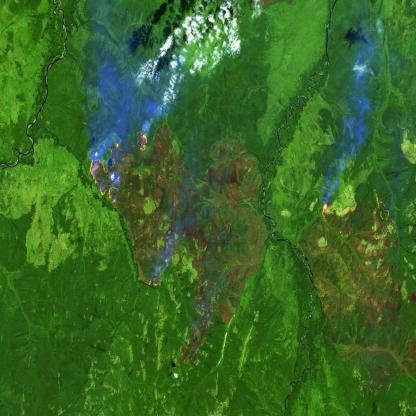fire: (88, 130, 151, 208), (315, 198, 333, 228)
